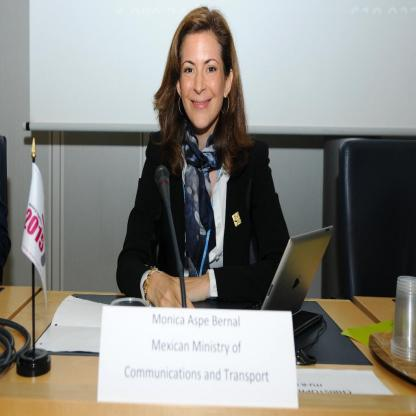board: (258, 212, 343, 321)
